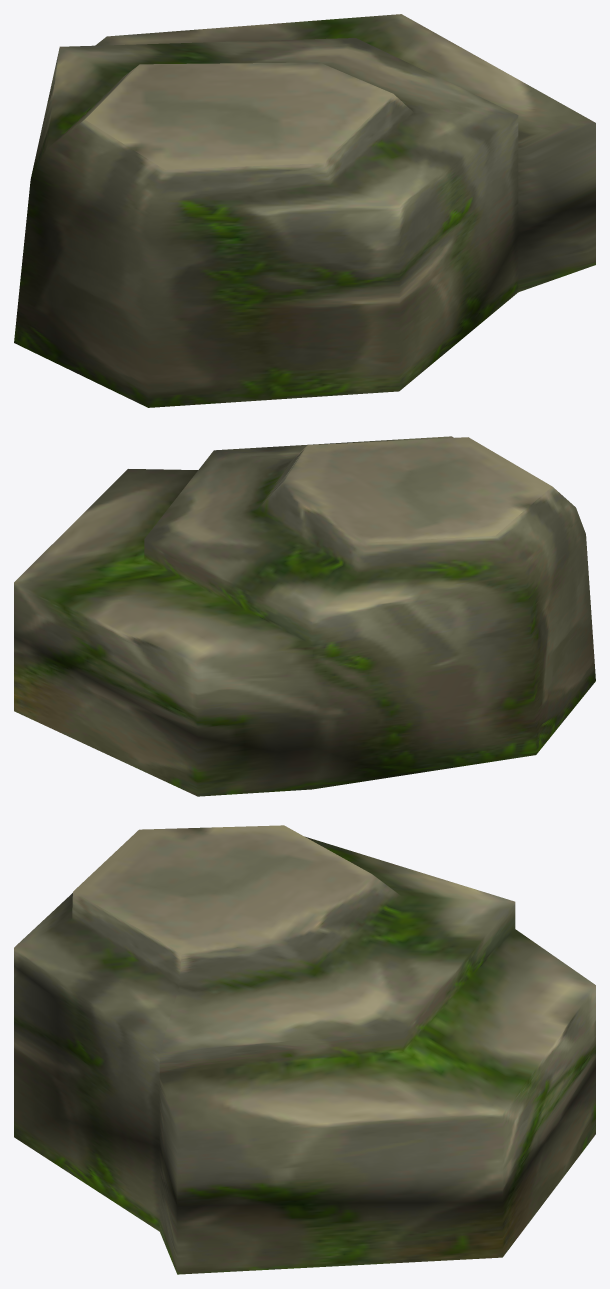
File: RockFormation_4_5 (16).fbx
The picture shows the model from 3 angles, top to bottom: view 1: azimuth 30°, elevation 25°; view 2: azimuth 150°, elevation 25°; view 3: azimuth 270°, elevation 25°; orthographic projection. The views are drawn at different scales.
Parts seen in each view (by area): view 1: RockFormation_4_5 (16); view 2: RockFormation_4_5 (16); view 3: RockFormation_4_5 (16).
Part boxes in pixels (left/top/right/bottom): RockFormation_4_5 (16): left=14, top=14, right=595, bottom=407; RockFormation_4_5 (16): left=14, top=436, right=595, bottom=796; RockFormation_4_5 (16): left=14, top=825, right=595, bottom=1274.
Size of the model in its own units: 431 by 174 by 414.
Materials: 1 (1 with a texture image).
